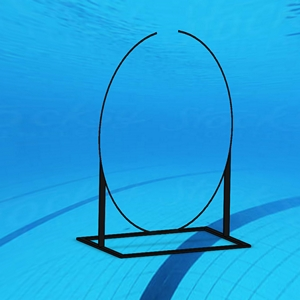circle: (74, 30, 253, 259)
